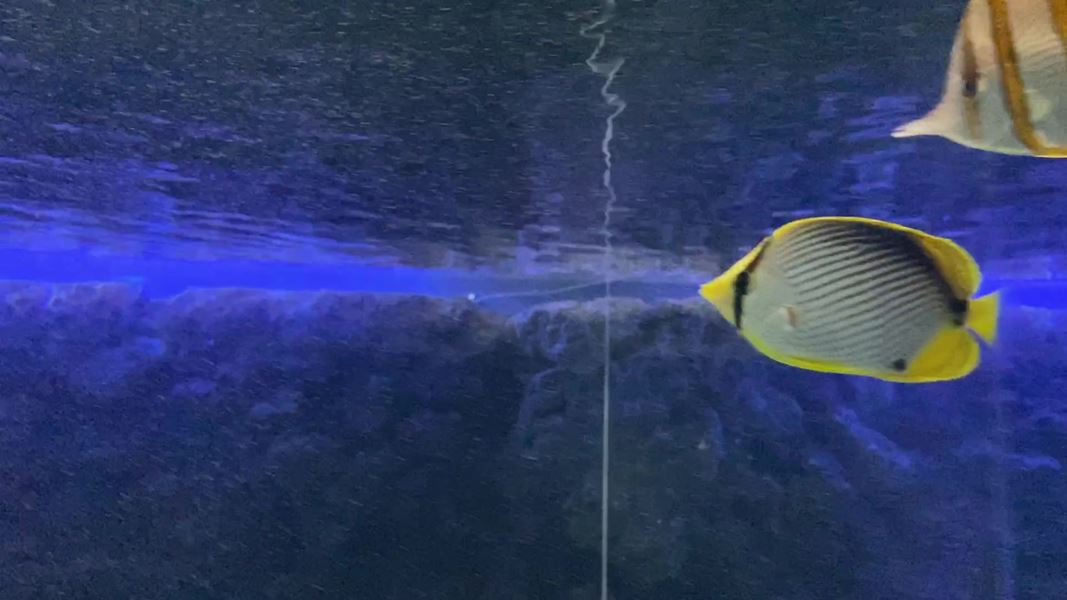Black-backed butterflyfish: (684, 208, 1035, 395)
